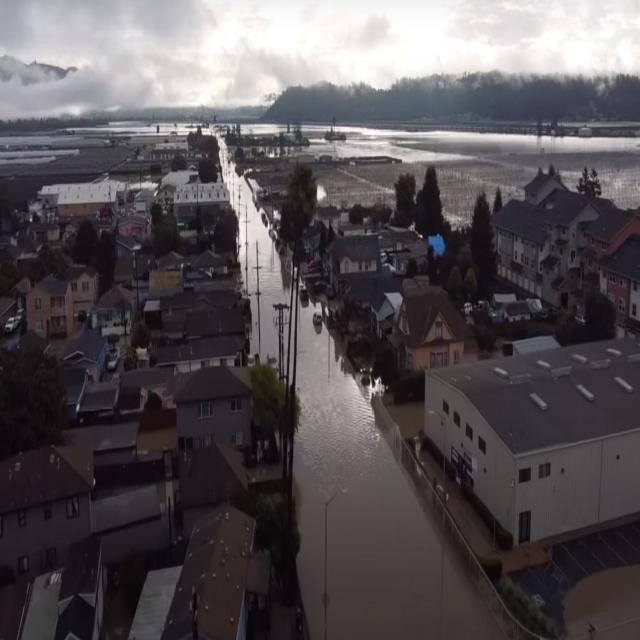flood: (294, 302, 502, 639), (305, 125, 640, 225), (220, 137, 290, 360), (565, 565, 640, 640)
house: (426, 337, 640, 544), (158, 501, 257, 640), (0, 440, 92, 580), (175, 361, 255, 478), (394, 283, 466, 391), (492, 197, 552, 298), (586, 205, 640, 312), (604, 229, 640, 335), (24, 273, 72, 343), (173, 178, 231, 227), (328, 235, 382, 286), (74, 262, 99, 298)
